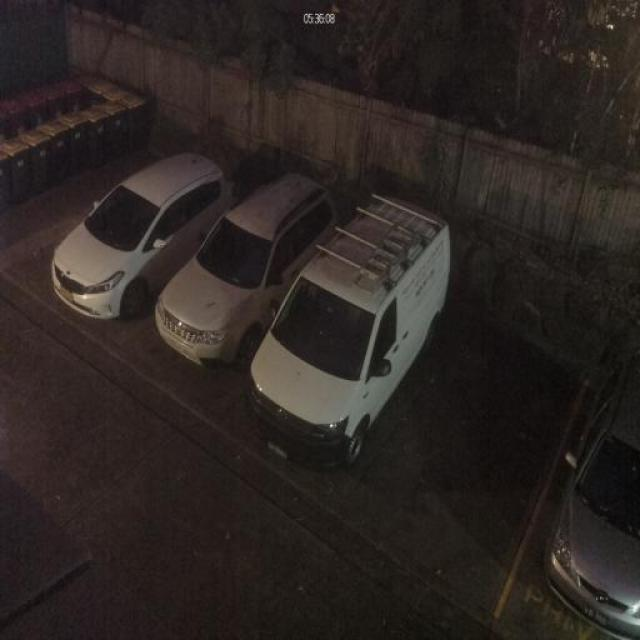Legalparking: (0, 67, 640, 632)
